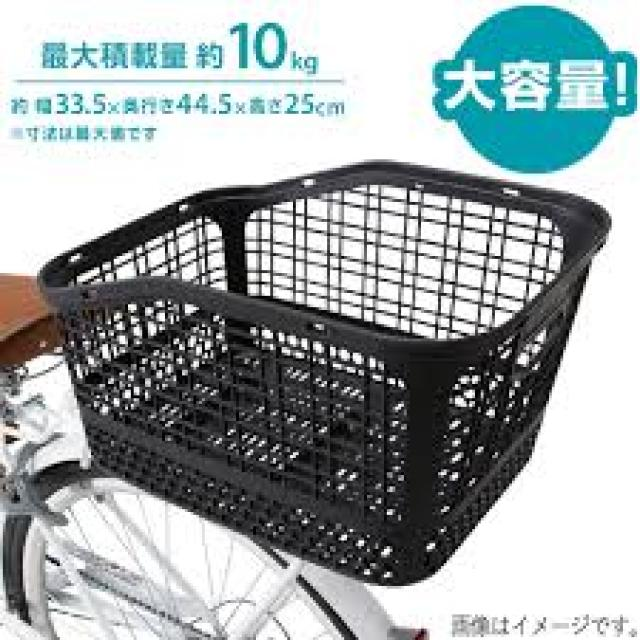basket: (37, 160, 609, 586)
